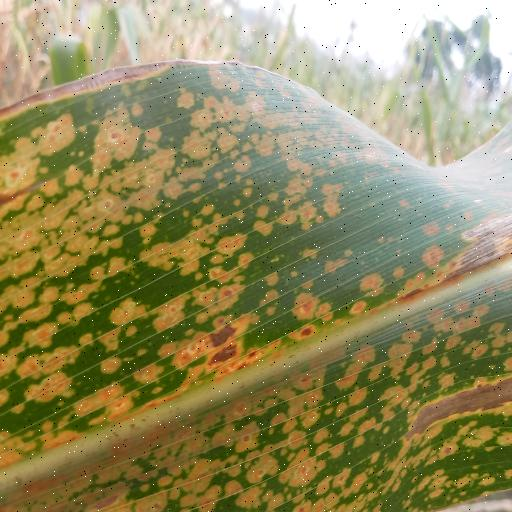Corn_Yellow_Spots: (0, 57, 512, 512)
